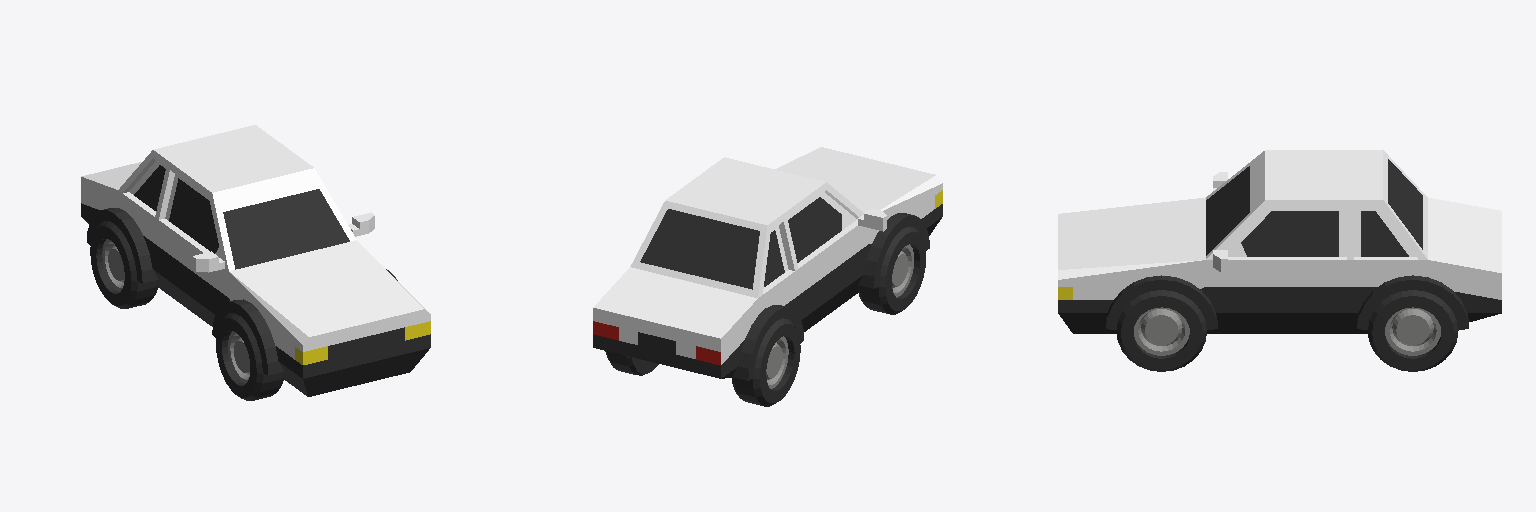
The model's file is car_long_white.obj.
3 renders of one model, left to right at view 1: azimuth 30°, elevation 25°; view 2: azimuth 150°, elevation 25°; view 3: azimuth 270°, elevation 25°, orthographic.
Parts seen in each view (by area): view 1: mergedBlocks; view 2: mergedBlocks; view 3: mergedBlocks.
Boxes of the visible parts, box(x1,y1,x2,y2) form: mergedBlocks: box(81, 125, 430, 400); mergedBlocks: box(593, 147, 942, 406); mergedBlocks: box(1058, 150, 1501, 371).
Size of the model in its own units: 1.4 by 1.21 by 3.